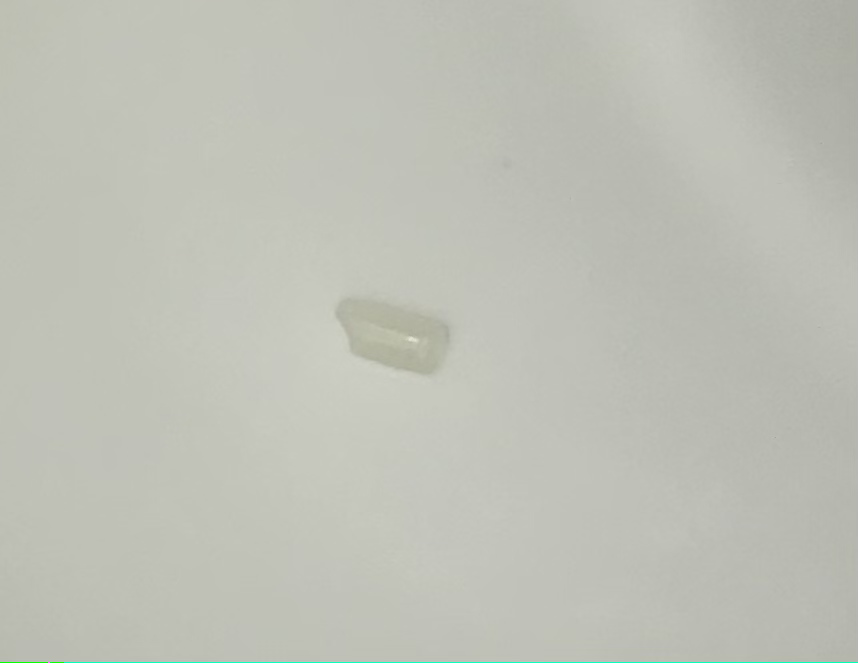Gao Tam: (326, 279, 468, 392)
